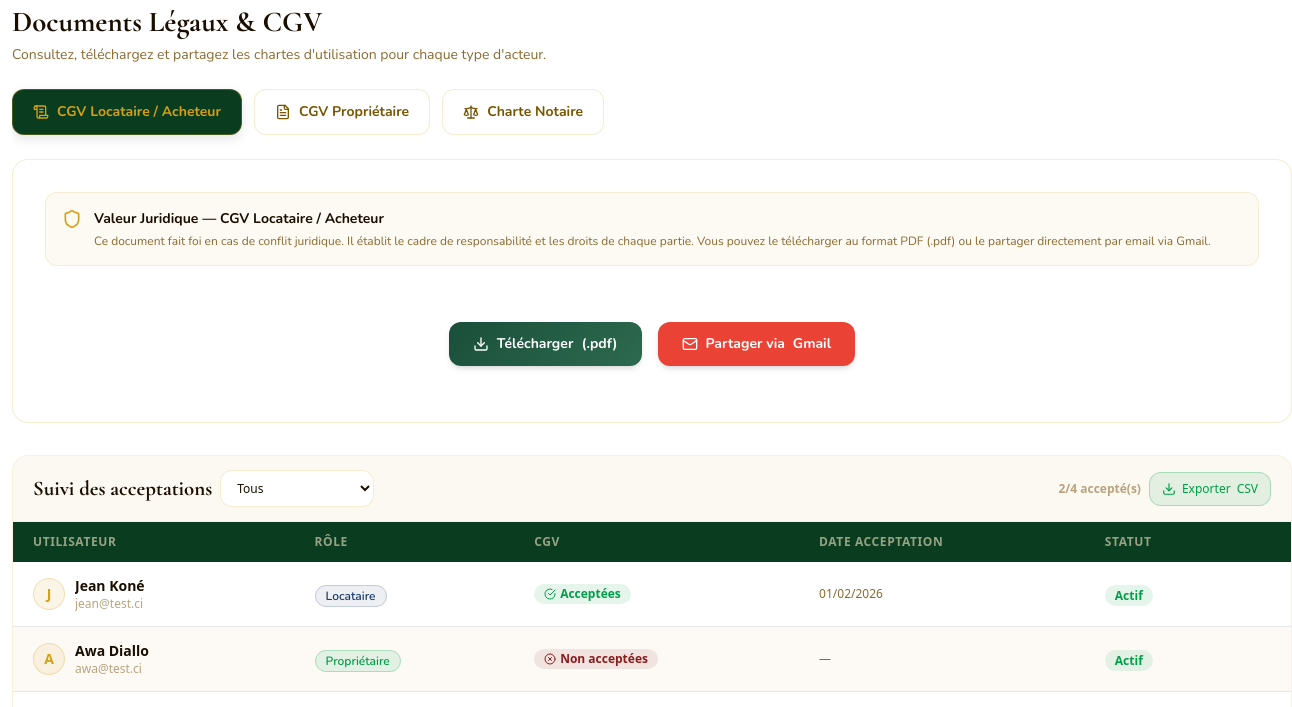
Test: AdminCGVTab › filtre par CGV acceptées
The image size is (1292, 707).
Select "CGV acceptées" in the dropdown showing "Tous" at (297, 489), box x1=220 y1=470 x2=374 y2=507
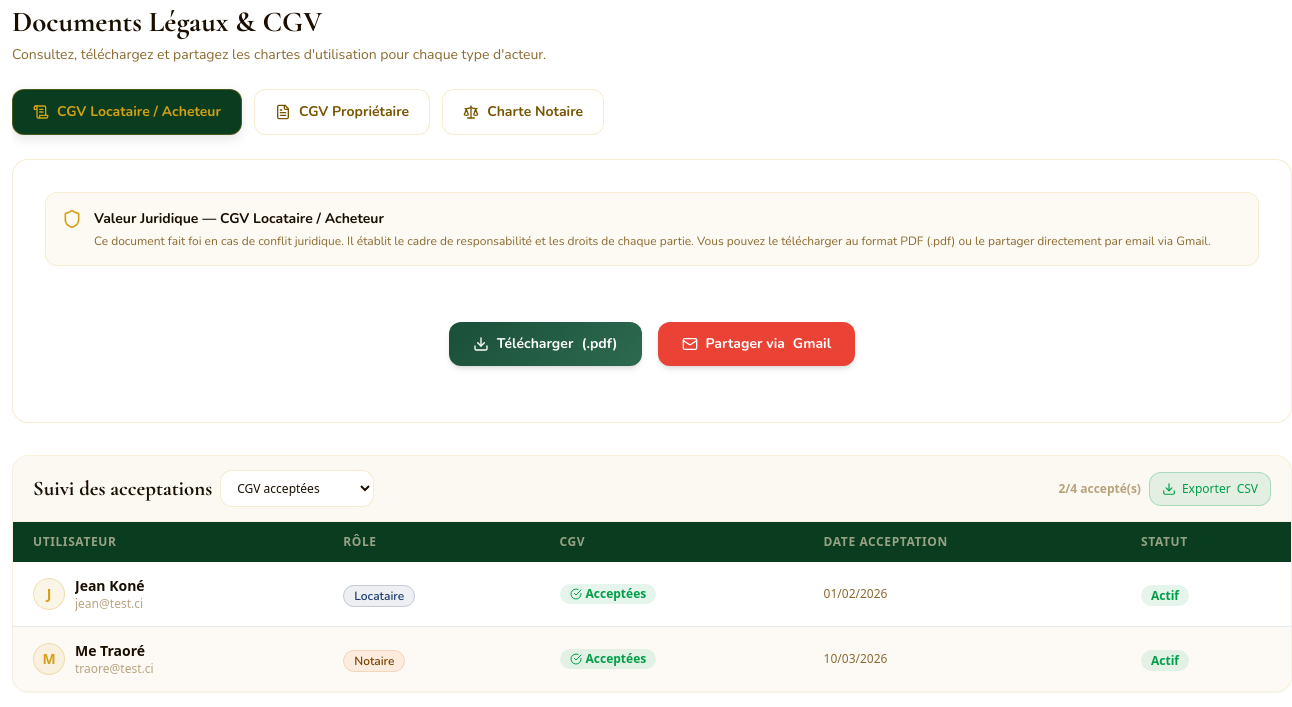
expect the text "Jean Koné" is shown: met, box x1=75 y1=576 x2=145 y2=596
expect the text "Awa Diallo" is gone: met
